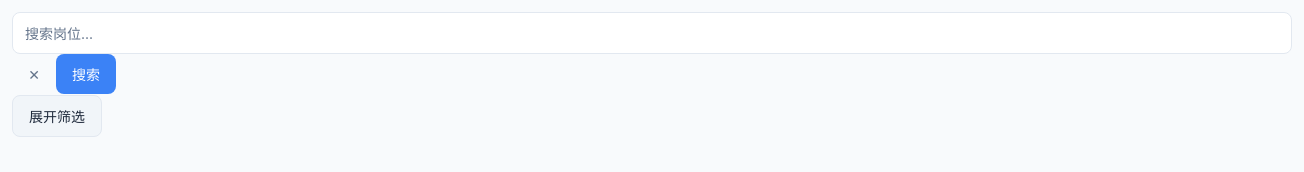
Test: SearchBar 组件 › 筛选器展开/收起 › 再次点击筛选器按钮应该收起筛选面板
Click the button "展开筛选": [57, 116] box [12, 94, 102, 136]
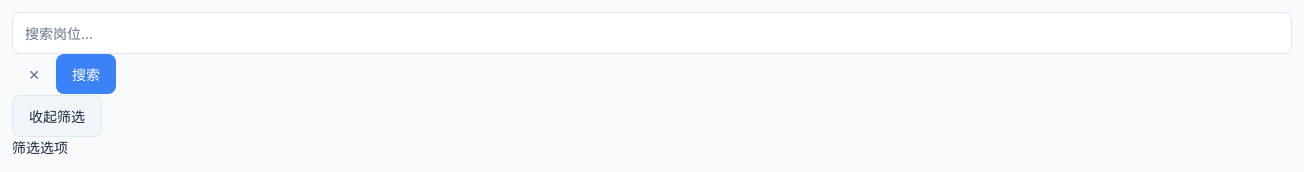
Now the text "筛选选项" is shown, box [12, 138, 68, 156]
Click the button "收起筛选": [57, 116] box [12, 94, 102, 136]
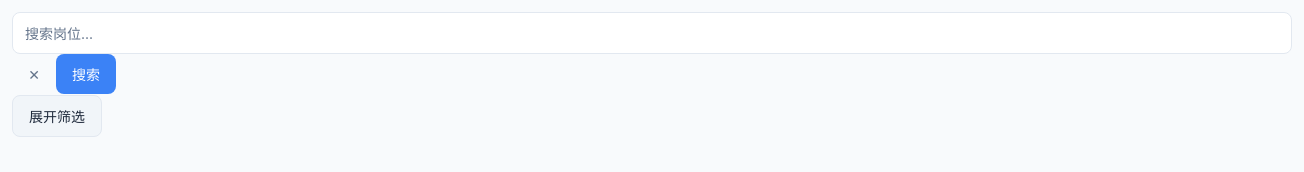
Now the text with test id "filter-content" is gone
